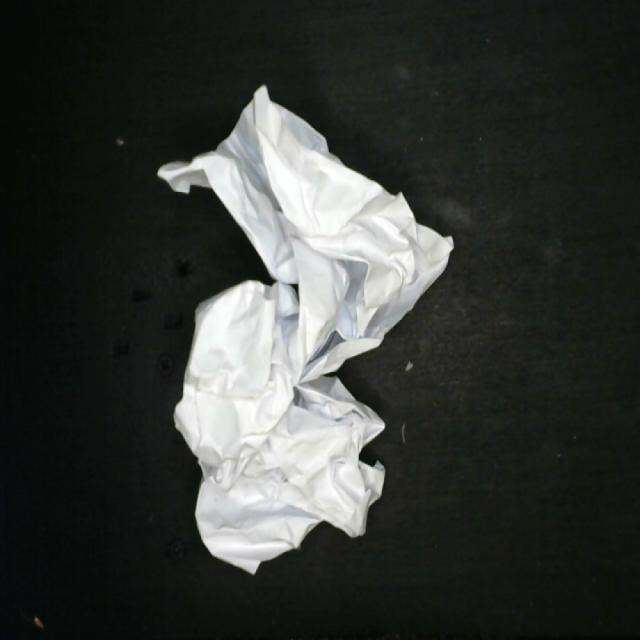biodegradable: (152, 75, 457, 580)
